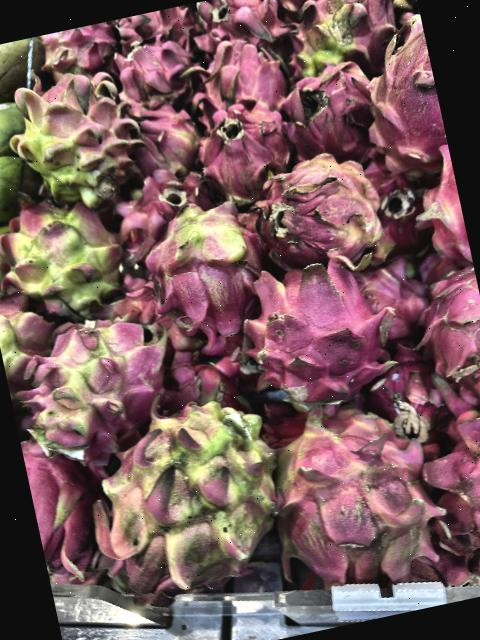buah-naga-belum-matang: (252, 381, 455, 604), (96, 391, 296, 609), (13, 311, 180, 462), (4, 57, 148, 217), (139, 188, 267, 334), (0, 182, 126, 330), (282, 0, 409, 85), (0, 285, 54, 390)
buah-naga-matang: (234, 237, 398, 407), (250, 148, 381, 270), (20, 424, 118, 587), (358, 20, 451, 176), (410, 405, 480, 596), (273, 58, 384, 164), (187, 93, 292, 198), (184, 25, 293, 121), (411, 267, 480, 408), (112, 162, 222, 247), (404, 141, 472, 266), (356, 154, 437, 253), (122, 96, 210, 179), (108, 30, 200, 109), (183, 0, 283, 63), (113, 4, 200, 61), (35, 21, 118, 79)
